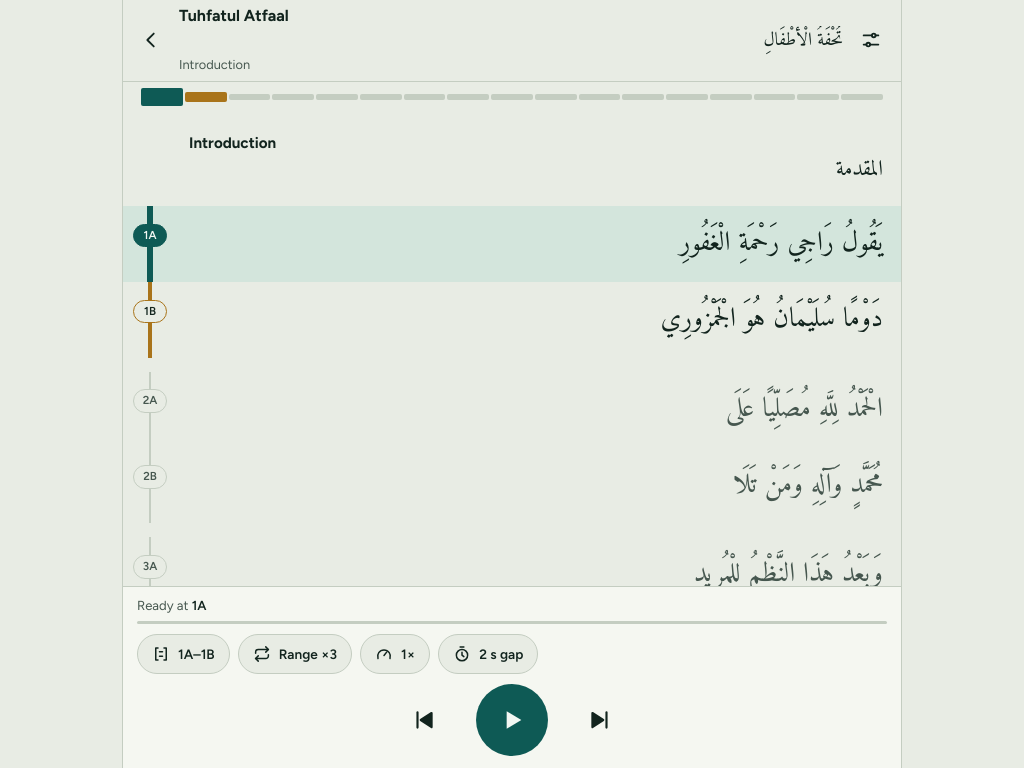
Test: Player: layout › has a translation under each segment, hidden until turned on
Step 1. Click the button named "Practice settings" → (871, 40), box x1=849 y1=18 x2=893 y2=62
(page scrolled)
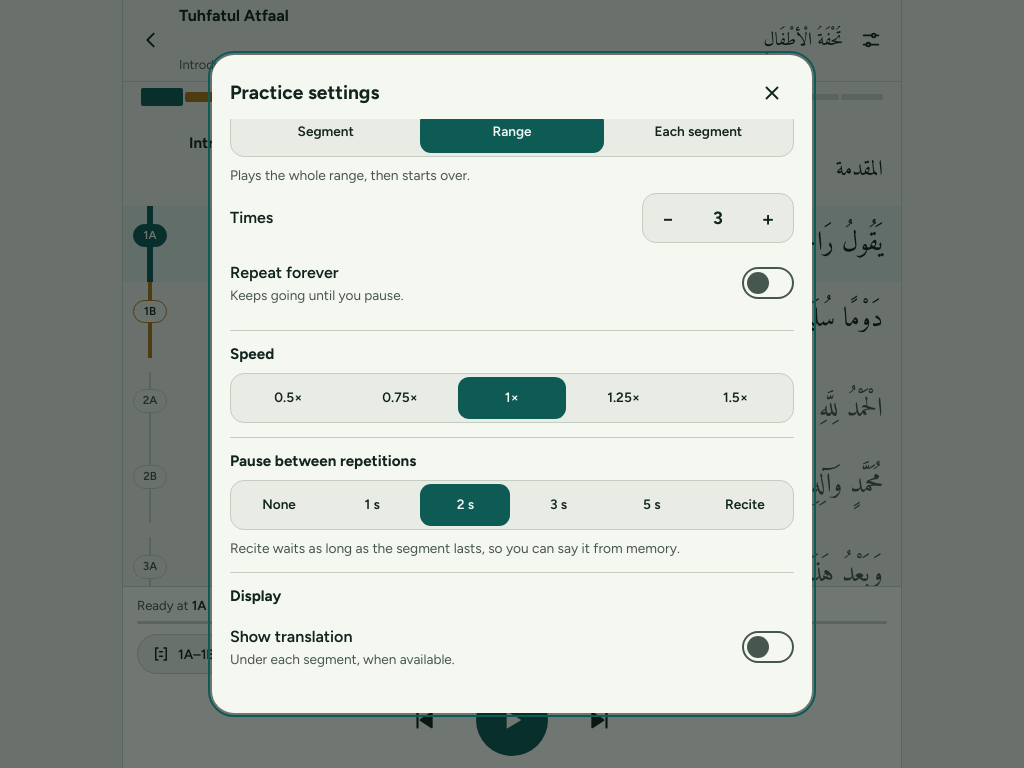
Step 2. Click the switch named "Show translation" in the row of "Under each segment, when available." → (768, 648), box x1=742 y1=632 x2=794 y2=664
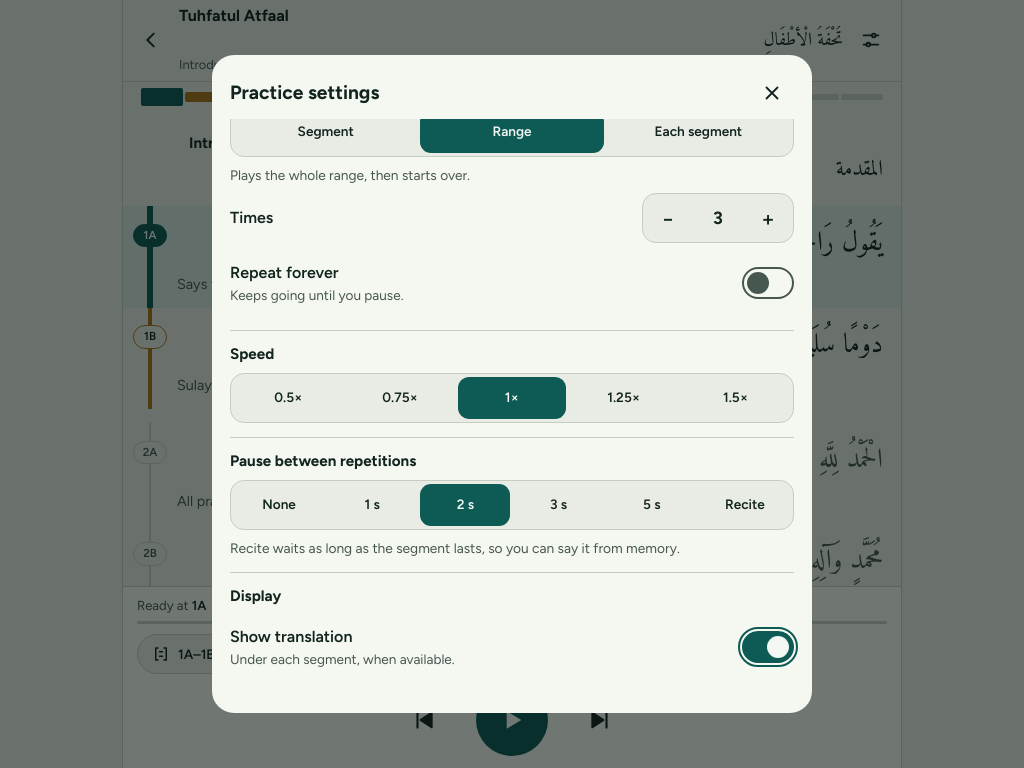
Result: the text "Says the one hoping for the mercy of the Forgiving," is shown at x1=177 y1=275 x2=508 y2=293
